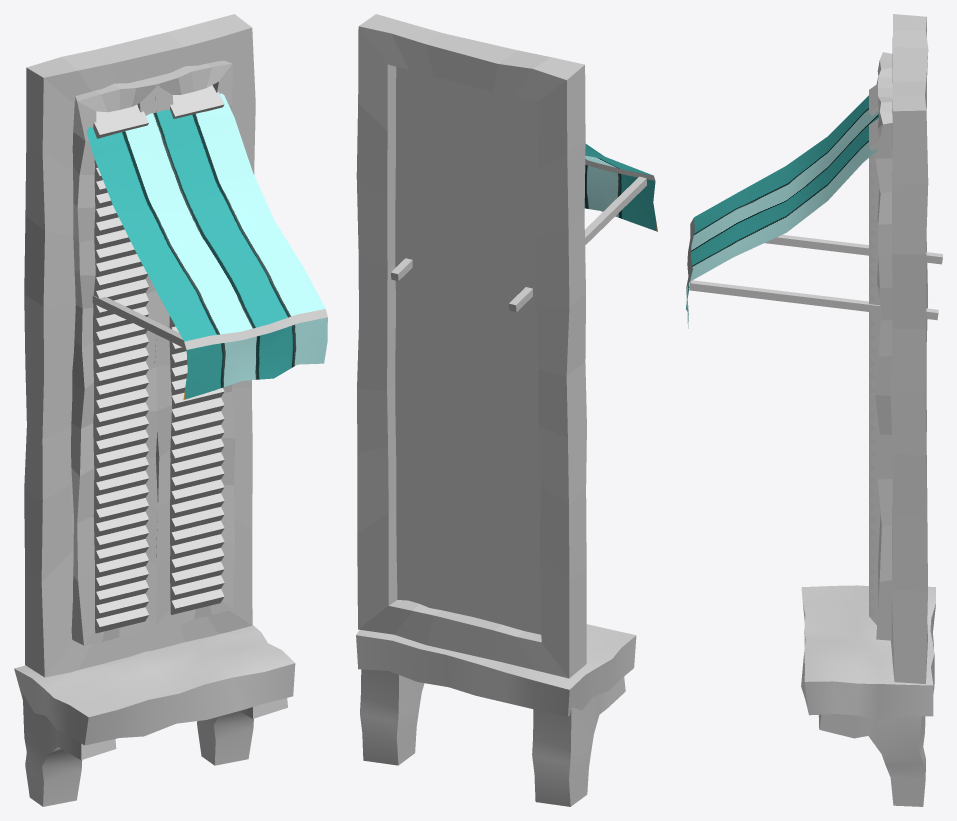
Rendered from Window_01.fbx.
3 views of the same model, side by side, from view 1: azimuth 30°, elevation 25°; view 2: azimuth 150°, elevation 25°; view 3: azimuth 270°, elevation 25° (orthographic). The views are drawn at different scales.
Visible parts, largest first — view 1: Plane.008, Plane.007, Plane.010, Cube.014, Plane.009; view 2: Plane.011, Plane.008, Cube.014, Plane.007; view 3: Plane.008, Cube.014, Plane.007, Plane.009, Plane.010.
Boxes of the visible parts, x1,y1,x2,y2 form: Plane.008: (24,14,255,677); Plane.007: (86,93,327,399); Plane.010: (71,78,159,645); Cube.014: (14,625,295,806); Plane.009: (150,60,235,625); Plane.011: (395,67,541,634); Plane.008: (356,14,586,678); Cube.014: (356,624,636,806); Plane.007: (391,144,657,312); Plane.008: (890,14,928,684); Cube.014: (801,585,935,806); Plane.007: (686,95,942,328); Plane.009: (869,88,892,640); Plane.010: (869,52,892,115).
Bounding box in the file's own units: 41.89 × 132 × 44.2.
